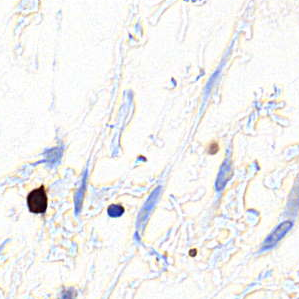Lymphocyte: (26, 185, 50, 214)
